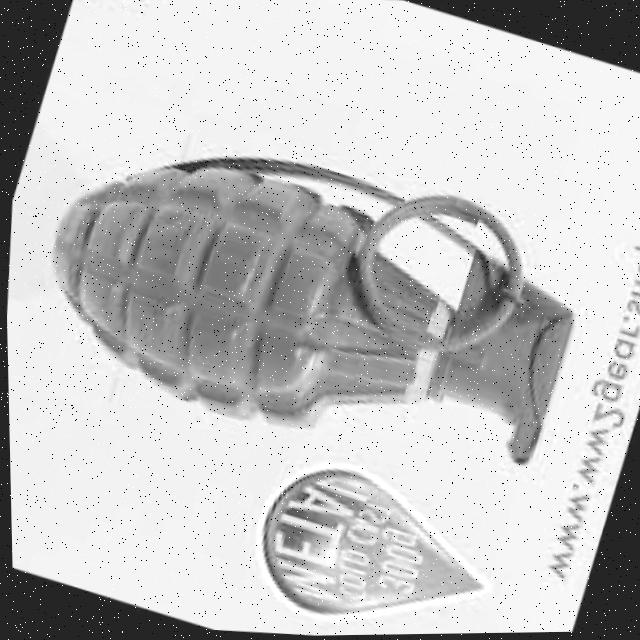grenade: (6, 76, 613, 513)
